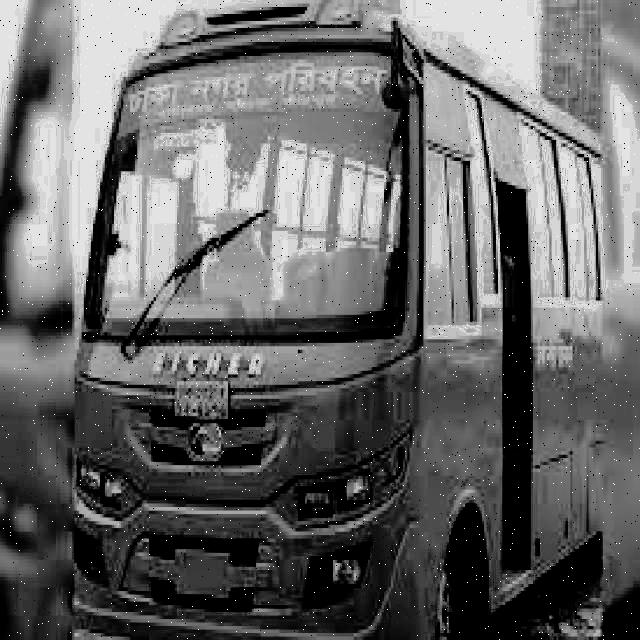Bus: (76, 0, 608, 640)
